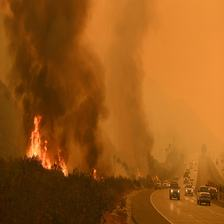fire: (13, 50, 104, 184)
